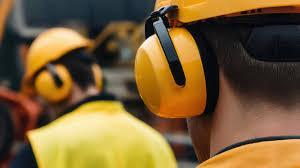Ear_protector: (127, 24, 220, 129), (38, 65, 80, 106), (89, 62, 112, 91)
Hard_hat: (17, 26, 102, 72)
Humans: (7, 58, 182, 168)
